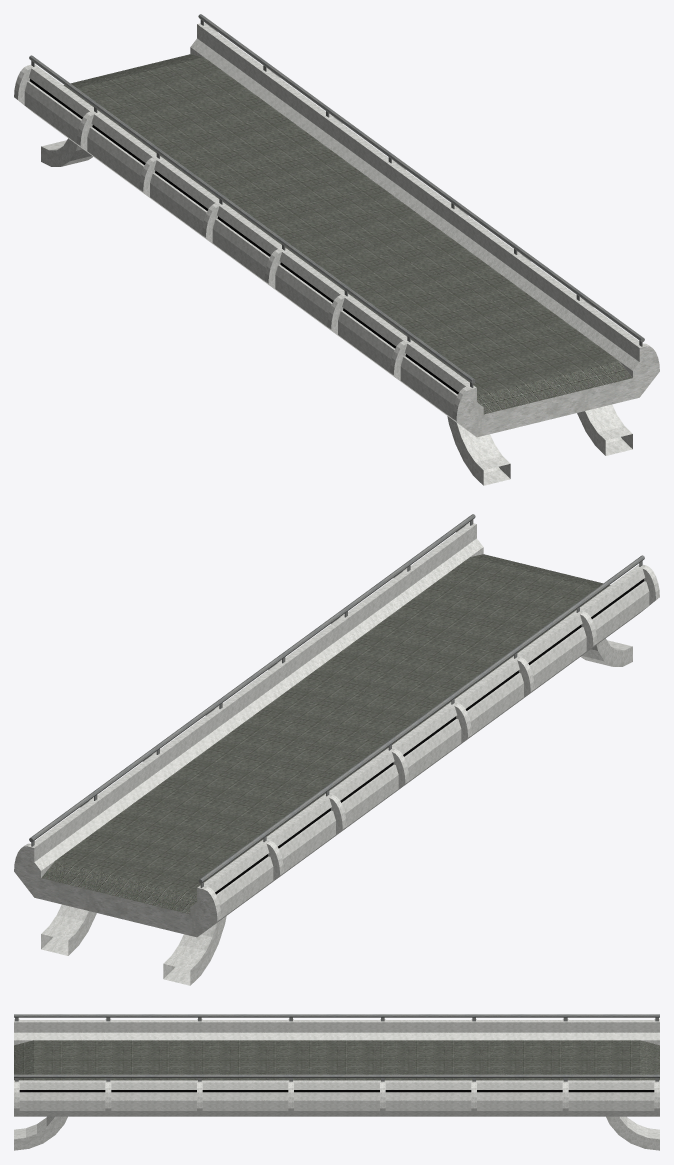
Rendered from thm_corl_imprv_bridge_lg_s01_l0.fbx.
The picture shows the model from 3 angles, top to bottom: view 1: azimuth 30°, elevation 25°; view 2: azimuth 150°, elevation 25°; view 3: azimuth 270°, elevation 25°; orthographic projection. The views are drawn at different scales.
Visible parts, largest first — view 1: mesh_node; view 2: mesh_node; view 3: mesh_node.
Boxes of the visible parts, x1=… form: mesh_node: x1=14, y1=14, x2=659, y2=485; mesh_node: x1=14, y1=514, x2=659, y2=985; mesh_node: x1=14, y1=1014, x2=659, y2=1150.
Size of the model in its own units: 7.5 by 3.84 by 28.25.
